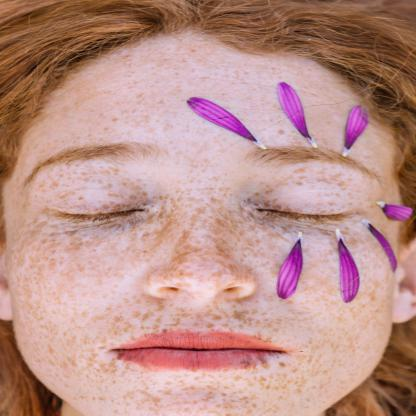Eye: (250, 174, 369, 227), (37, 178, 150, 229)
Mouth: (106, 325, 293, 380)
Nose: (139, 197, 258, 302)
